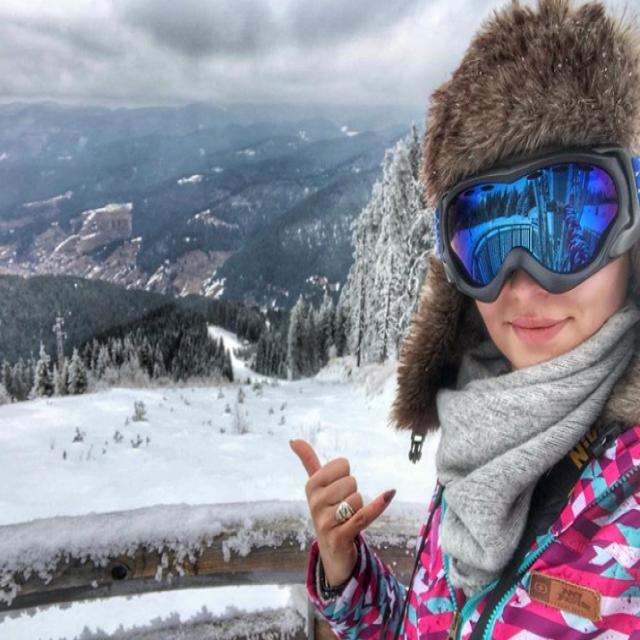hat: (398, 4, 636, 423)
